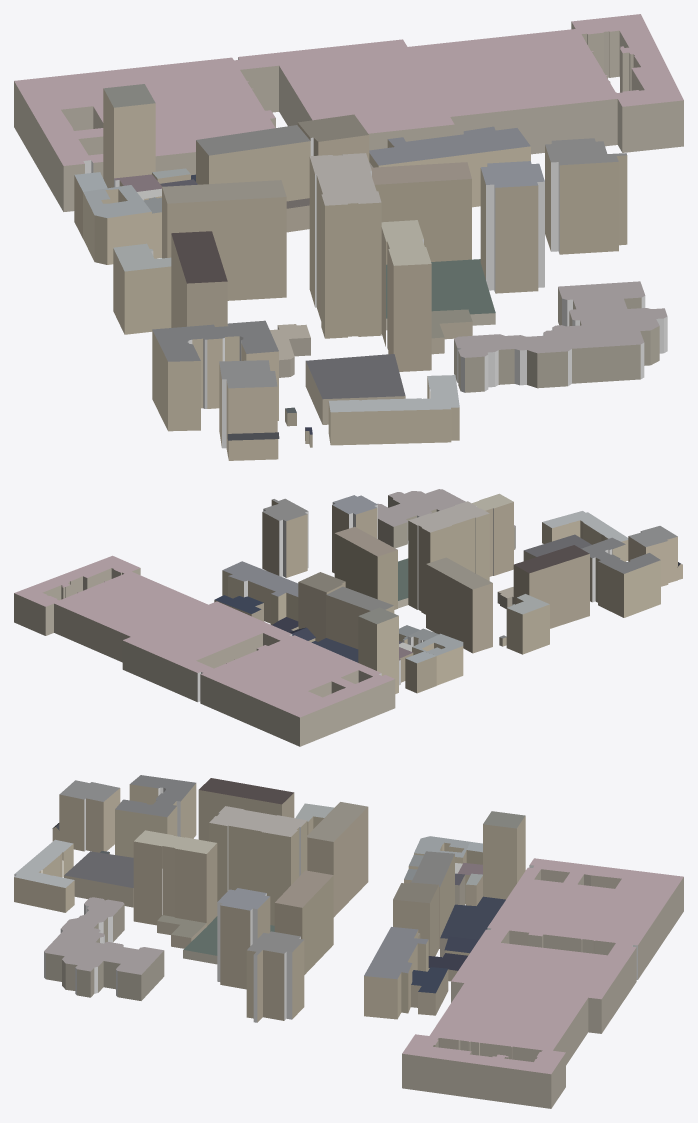
3 renders of one model, top to bottom at view 1: azimuth 30°, elevation 25°; view 2: azimuth 150°, elevation 25°; view 3: azimuth 270°, elevation 25°, orthographic. The views are drawn at different scales.
Parts seen in each view (by area): view 1: tuile; view 2: tuile; view 3: tuile.
Boxes of the visible parts, <box> form: tuile: <box>14,14,683,460</box>; tuile: <box>14,489,682,746</box>; tuile: <box>14,775,683,1108</box>.
Bounding box in the file's own units: 296 × 54.91 × 307.
